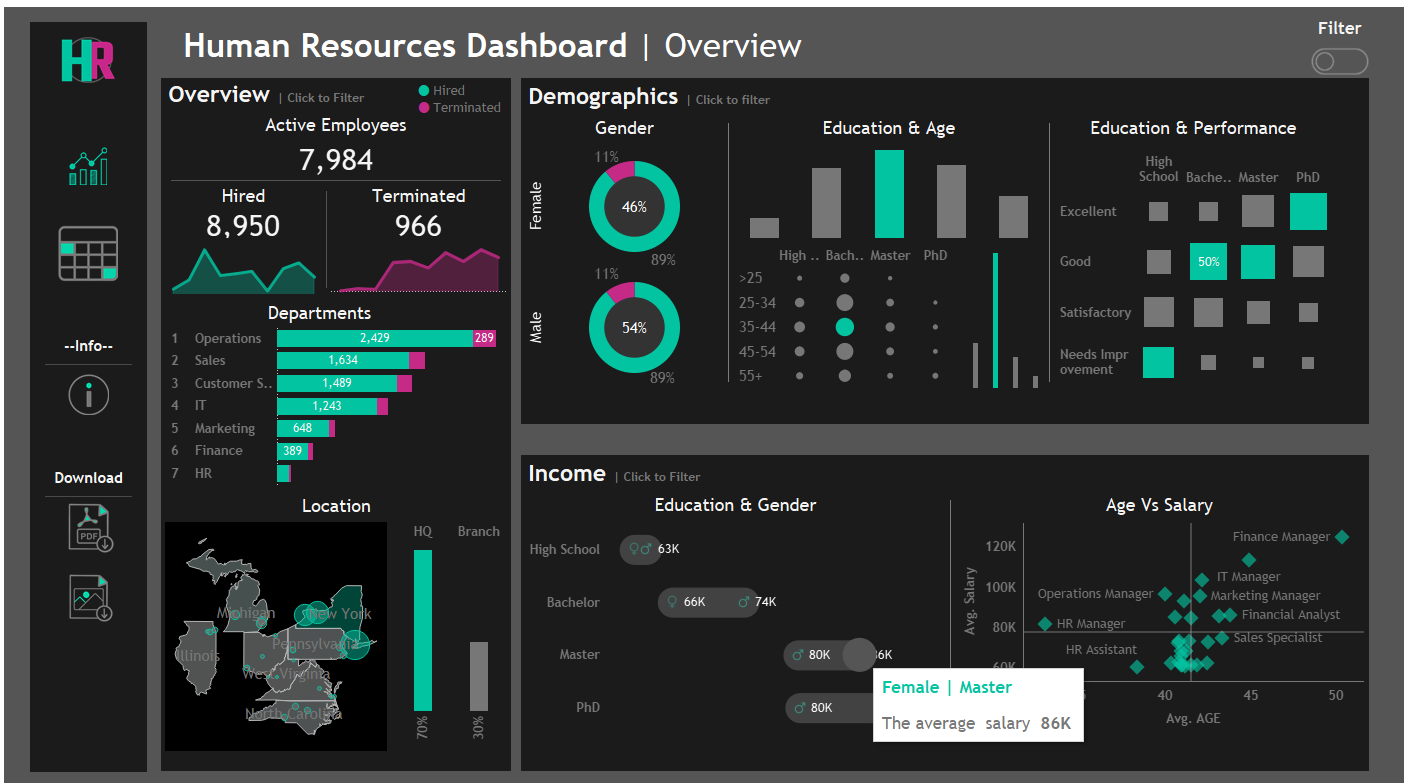

Layout of this report page (visuals, bound fields, positions):
{"tool":"tableau","page":{"name":"HR | Summary (3)","canvas":[1400,800],"ordinal":3},"visuals":[{"type":"blank","box":[7,7,130,393]},{"type":"text","box":[143,7,676,64]},{"type":"blank","box":[819,7,536,64]},{"type":"text","box":[149,77,352,32]},{"type":"text","box":[509,79,838,35]},{"type":"text","box":[149,109,352,29]},{"type":"text","box":[511,116,207,29]},{"type":"blank","box":[718,116,25,246]},{"type":"text","box":[743,116,261,29]},{"type":"blank","box":[1004,116,25,246]},{"type":"text","box":[1029,116,316,29]},{"type":"worksheet","title":"Active","mark":"Text","box":[149,138,352,41]},{"type":"worksheet","title":"Gender","mark":"Pie","rows":["Gender"],"cols":["Calculation_1937110846429085710","Calculation_1937110846429085710"],"box":[511,145,207,217]},{"type":"worksheet","title":"Age Group","mark":"Bar","rows":["Calculation_1937110846402056192"],"cols":["Calculation_1937110846440509456"],"box":[743,145,261,100]},{"type":"worksheet","title":"Education VS Performance","mark":"Square","rows":["Performance Rating"],"cols":["Education Level"],"box":[1029,145,316,217]},{"type":"blank","box":[149,179,352,25]},{"type":"text","box":[151,206,165,29]},{"type":"blank","box":[316,206,17,113]},{"type":"text","box":[333,206,166,29]},{"type":"worksheet","title":"HIRED","mark":"Text","box":[151,235,165,32]},{"type":"worksheet","title":"Terminated","mark":"Text","box":[333,235,166,32]},{"type":"worksheet","title":"Age VS Education","mark":"Pie","rows":["Calculation_1937110846440509456"],"cols":["Education Level"],"box":[743,245,152.5,117]},{"type":"worksheet","title":"Education Level","mark":"Bar","rows":["Calculation_1937110846402056192"],"cols":["Education Level"],"box":[895.5,245,108.5,117]},{"type":"worksheet","title":"Hired by Years","mark":"Line","rows":["Calculation_1937110846402056192","Calculation_1937110846402056192"],"cols":["Hiredate"],"box":[151,267,165,52]},{"type":"worksheet","title":"Terminated by Years","mark":"Line","rows":["Calculation_1937110846402326529","Calculation_1937110846402326529"],"cols":["Termdate"],"box":[333,267,166,52]},{"type":"blank","box":[149,321,118.7,25]},{"type":"text","box":[267.7,321,114.7,25]},{"type":"blank","box":[382.3,321,118.7,25]},{"type":"worksheet","title":"Departments","mark":"Bar","rows":["Calculation_1937110846415405062","Department"],"cols":["Calculation_1937110846402056192"],"box":[149,346,352,166]},{"type":"blank","box":[7,400,130,393]},{"type":"text","box":[509,415,838,35]},{"type":"text","box":[511,452,410.5,29]},{"type":"blank","box":[921.5,452,25,220]},{"type":"text","box":[946.5,452,398.5,29]},{"type":"worksheet","title":"Education VS Gender Level","mark":"Square","rows":["Education Level"],"cols":["Salary","Salary"],"box":[511,481,410.5,191]},{"type":"worksheet","title":"Age VS Salary","mark":"Shape","rows":["Salary"],"cols":["Calculation_1937110846439919631"],"box":[946.5,481,398.5,191]},{"type":"blank","box":[149,512,120,24]},{"type":"text","box":[269,512,112,24]},{"type":"blank","box":[381,512,120,24]},{"type":"worksheet","title":"MAP STATE","mark":"Automatic","box":[149,536,292,222]},{"type":"worksheet","title":"Location","mark":"Bar","rows":["Calculation_1937110846402056192"],"cols":["Calculation_1937110846422126599","Calculation1"],"box":[441,536,60,222]}]}

Visuals, with their boxes in screenshot pixels (x1, y1, x2, y2), scaled from the page's 1400x800 canvas onto the 1407x783 screenshot:
blank: [7, 7, 138, 392]
text: [144, 7, 823, 69]
blank: [823, 7, 1362, 69]
text: [150, 75, 504, 107]
text: [512, 77, 1354, 112]
text: [150, 107, 504, 135]
text: [514, 114, 722, 142]
blank: [722, 114, 747, 354]
text: [747, 114, 1009, 142]
blank: [1009, 114, 1034, 354]
text: [1034, 114, 1352, 142]
"Active" worksheet (Text marks): [150, 135, 504, 175]
"Gender" worksheet (Pie marks): [514, 142, 722, 354]
"Age Group" worksheet (Bar marks): [747, 142, 1009, 240]
"Education VS Performance" worksheet (Square marks): [1034, 142, 1352, 354]
blank: [150, 175, 504, 200]
text: [152, 202, 318, 230]
blank: [318, 202, 335, 312]
text: [335, 202, 501, 230]
"HIRED" worksheet (Text marks): [152, 230, 318, 261]
"Terminated" worksheet (Text marks): [335, 230, 501, 261]
"Age VS Education" worksheet (Pie marks): [747, 240, 900, 354]
"Education Level" worksheet (Bar marks): [900, 240, 1009, 354]
"Hired by Years" worksheet (Line marks): [152, 261, 318, 312]
"Terminated by Years" worksheet (Line marks): [335, 261, 501, 312]
blank: [150, 314, 269, 339]
text: [269, 314, 384, 339]
blank: [384, 314, 504, 339]
"Departments" worksheet (Bar marks): [150, 339, 504, 501]
blank: [7, 392, 138, 776]
text: [512, 406, 1354, 440]
text: [514, 442, 926, 471]
blank: [926, 442, 951, 658]
text: [951, 442, 1352, 471]
"Education VS Gender Level" worksheet (Square marks): [514, 471, 926, 658]
"Age VS Salary" worksheet (Shape marks): [951, 471, 1352, 658]
blank: [150, 501, 270, 525]
text: [270, 501, 383, 525]
blank: [383, 501, 504, 525]
"MAP STATE" worksheet: [150, 525, 443, 742]
"Location" worksheet (Bar marks): [443, 525, 504, 742]
